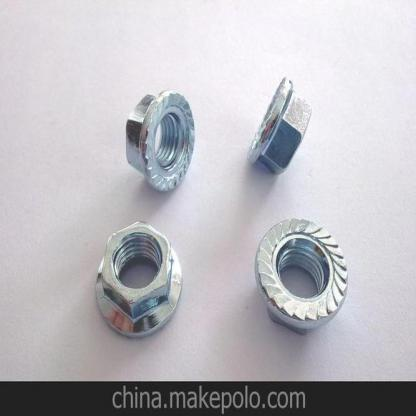FOD: (252, 213, 350, 334), (93, 219, 184, 341), (122, 86, 197, 196), (245, 71, 314, 178)
